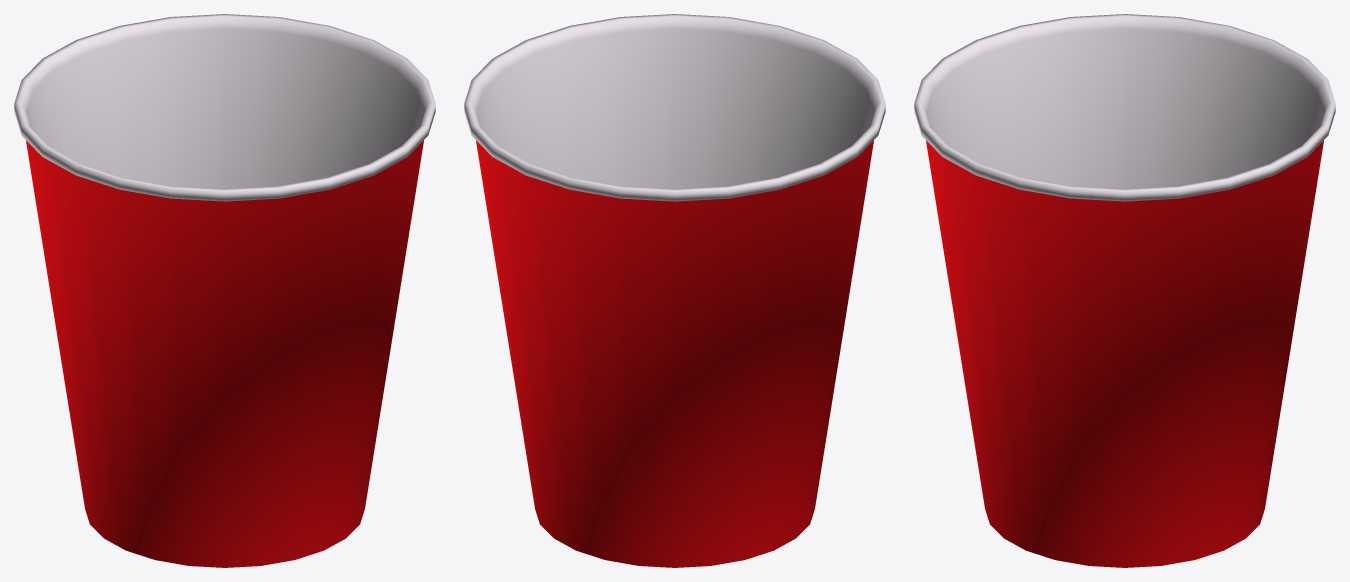
The model's file is bpcup.glb.
3 views of the same model, side by side, from view 1: azimuth 30°, elevation 25°; view 2: azimuth 150°, elevation 25°; view 3: azimuth 270°, elevation 25° (orthographic).
Visible parts, largest first — view 1: Cylinder; view 2: Cylinder; view 3: Cylinder.
Part boxes in pixels (x1,y1,x2,y2): Cylinder: (14, 14, 435, 567); Cylinder: (464, 14, 885, 567); Cylinder: (914, 14, 1335, 567).
Bounding box in the file's own units: 2.06 × 2.19 × 2.06.
